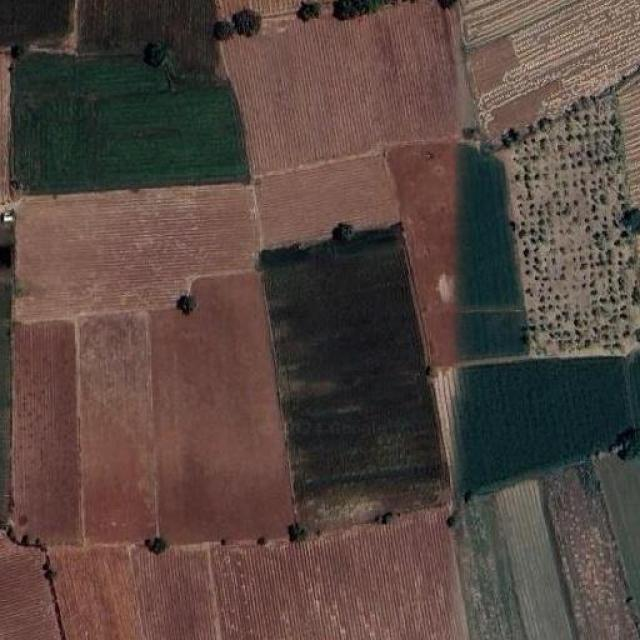land-Sx1C: (261, 228, 442, 531), (222, 0, 474, 166), (151, 271, 292, 542), (502, 95, 640, 355), (211, 508, 468, 640), (15, 184, 258, 321), (12, 55, 246, 192), (455, 356, 635, 494), (462, 0, 640, 136), (79, 312, 156, 541), (540, 464, 639, 639), (11, 320, 81, 543), (388, 144, 458, 367), (458, 145, 525, 359), (255, 154, 398, 248), (495, 480, 572, 639), (76, 0, 218, 79), (451, 494, 525, 639), (49, 547, 139, 639), (594, 455, 640, 631), (134, 548, 212, 639), (0, 531, 61, 639), (0, 0, 71, 46)
